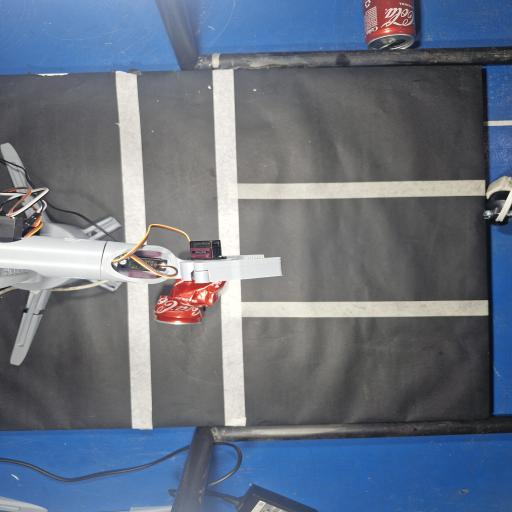lata_defectuoso: (154, 280, 225, 323)
